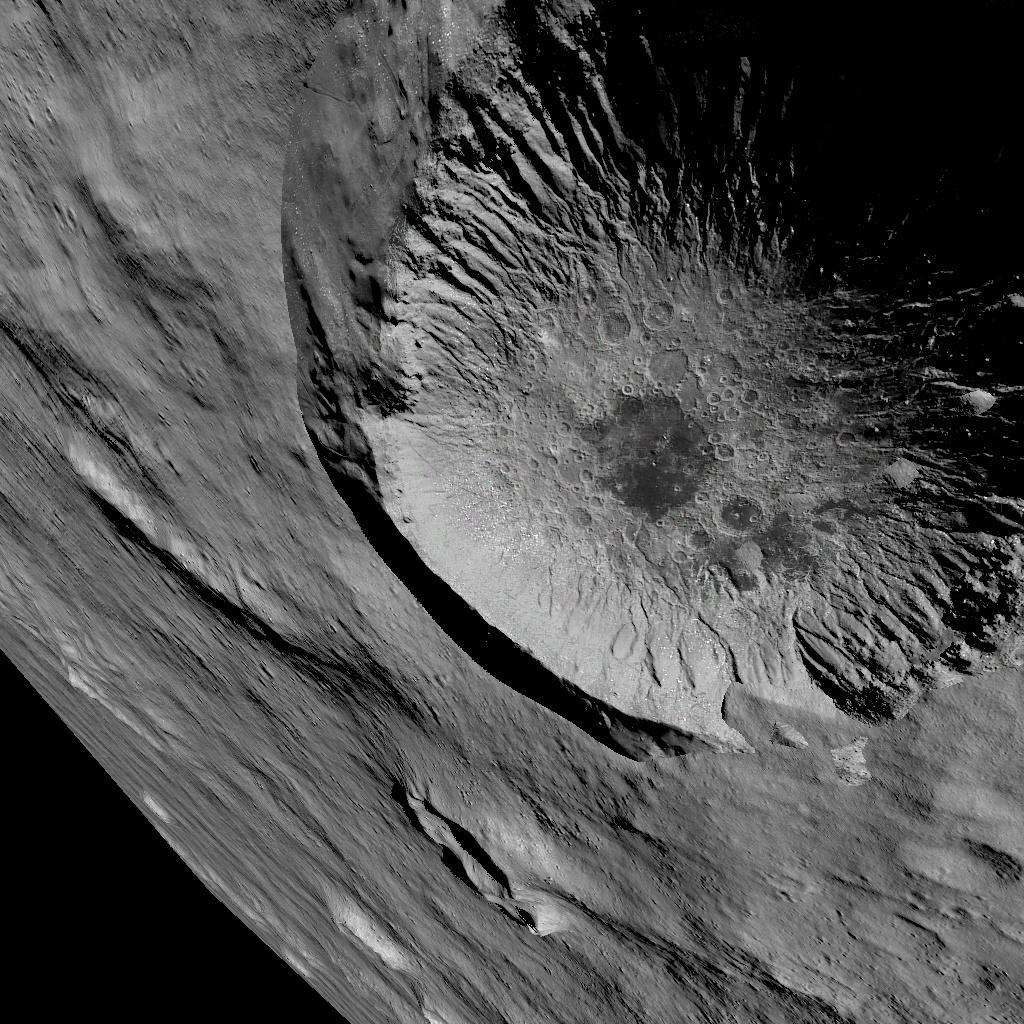Crater: (283, 0, 1024, 766), (389, 782, 554, 936)
Plan surface: (587, 788, 1024, 1024)
